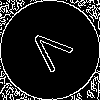V: (25, 25, 81, 80)
